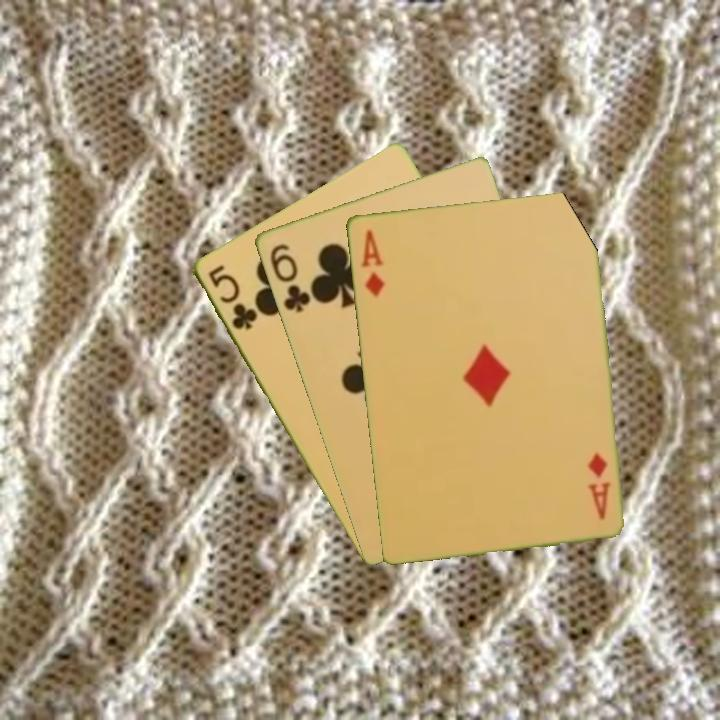5c: (204, 261, 260, 333)
6c: (266, 240, 313, 315)
Ad: (357, 226, 387, 300), (584, 449, 613, 522)
